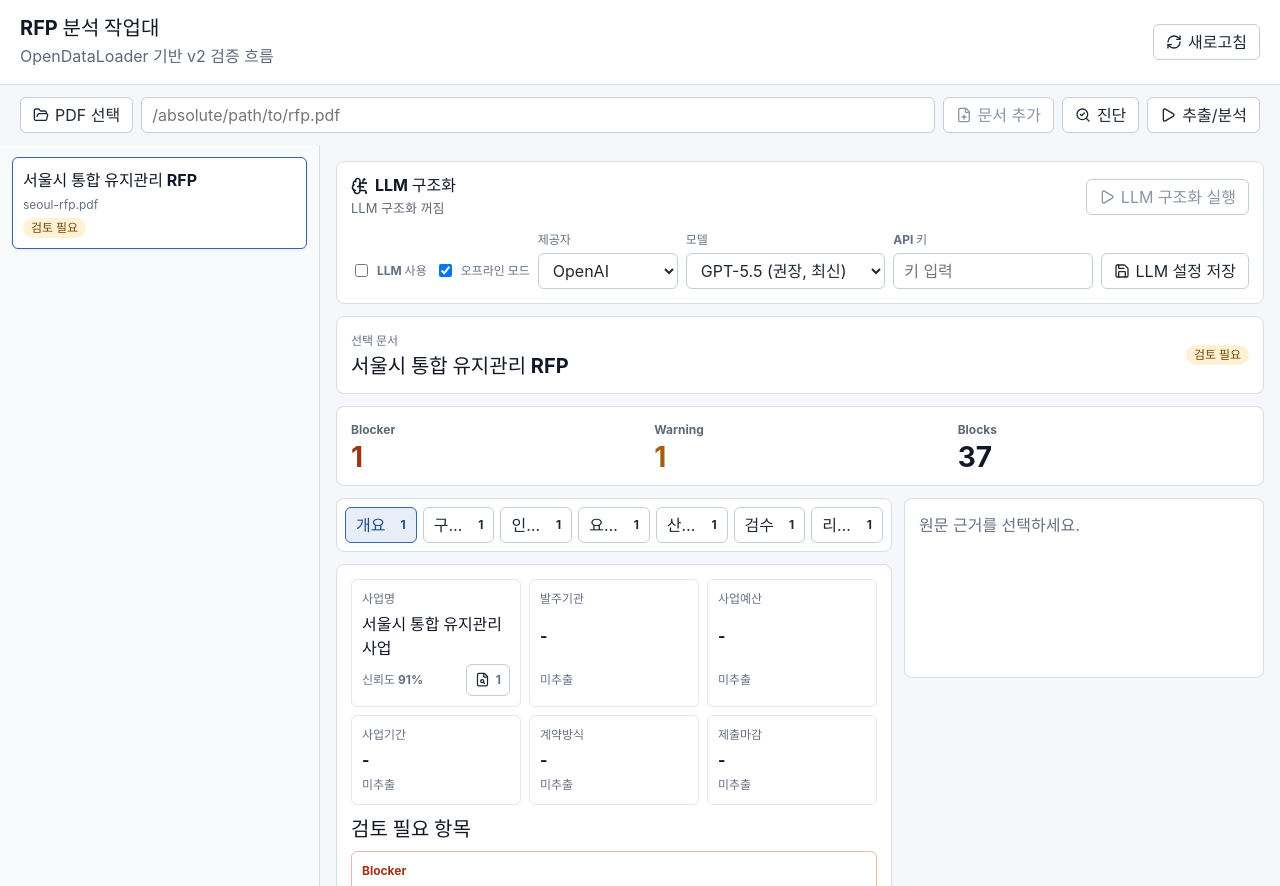
Test: App › navigates review tabs and shows domain rows
Click the button "구매 항목 1" at (459, 525), box [423,507,494,543]
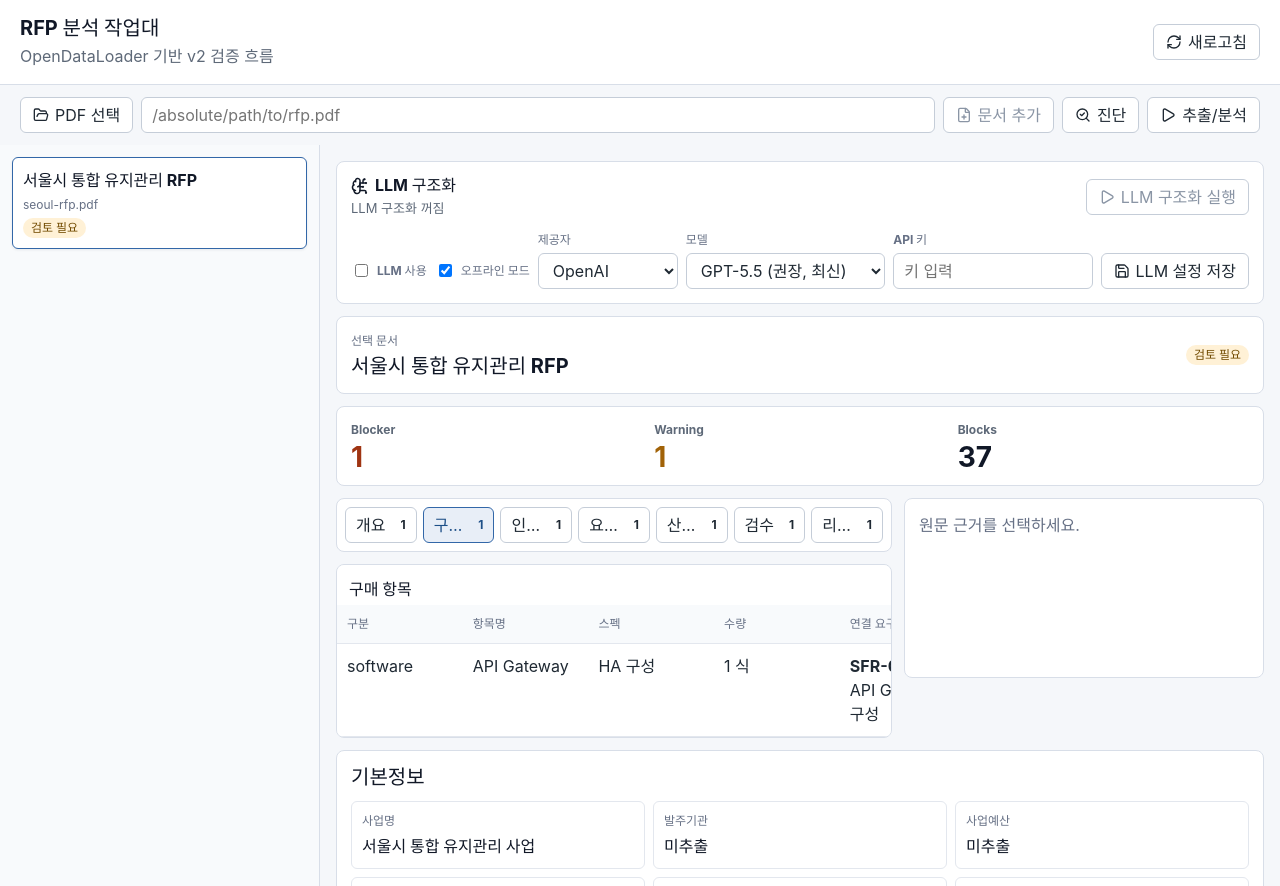
Check: the text "API Gateway" is shown, box [463,643,588,736]
Click the button "인력/MM 1" at (536, 525), box [500,507,572,543]
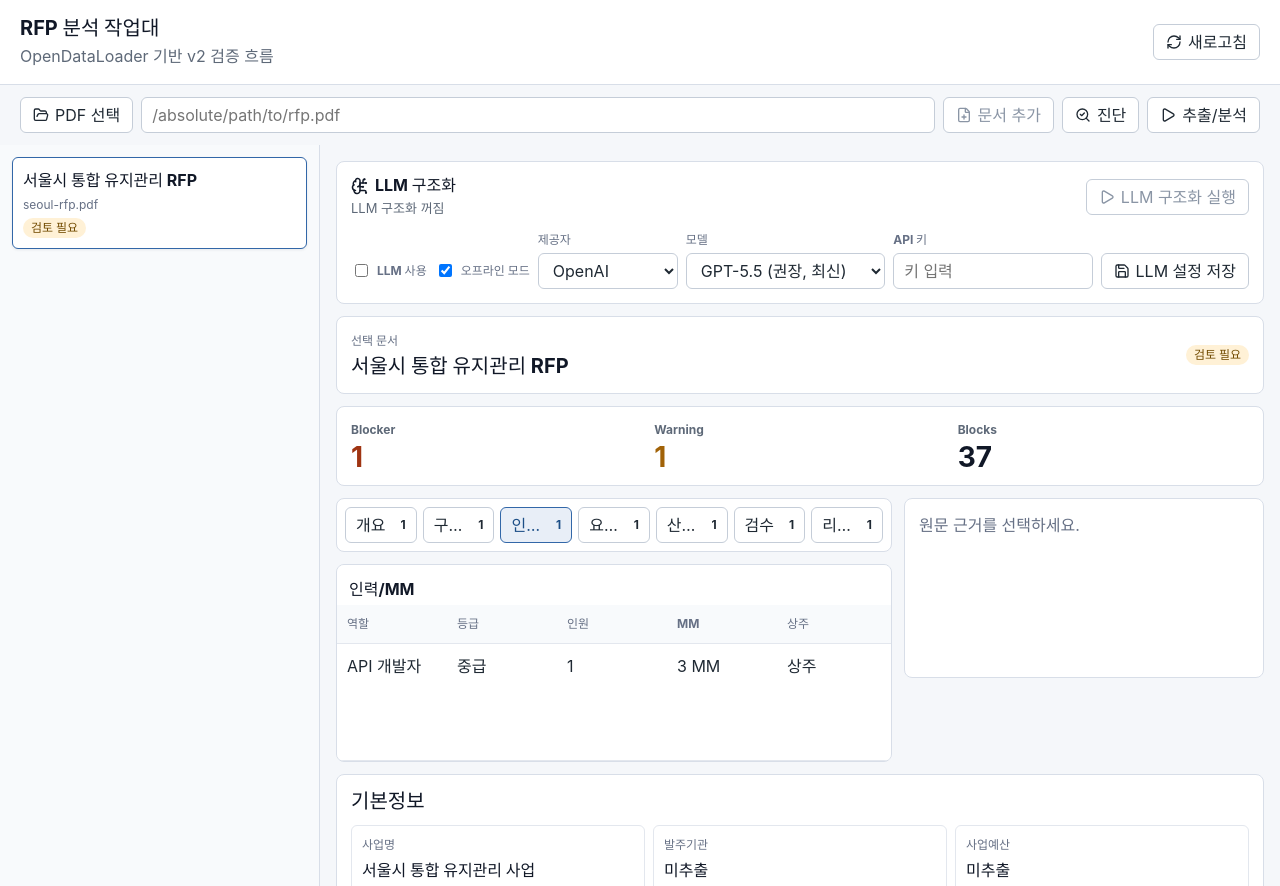
Check: the text "API 개발자" is shown, box [337,643,447,760]
Check: the text "3 MM" is shown, box [667,643,777,760]
Click the button "요구사항 1" at (614, 525), box [578,507,650,543]
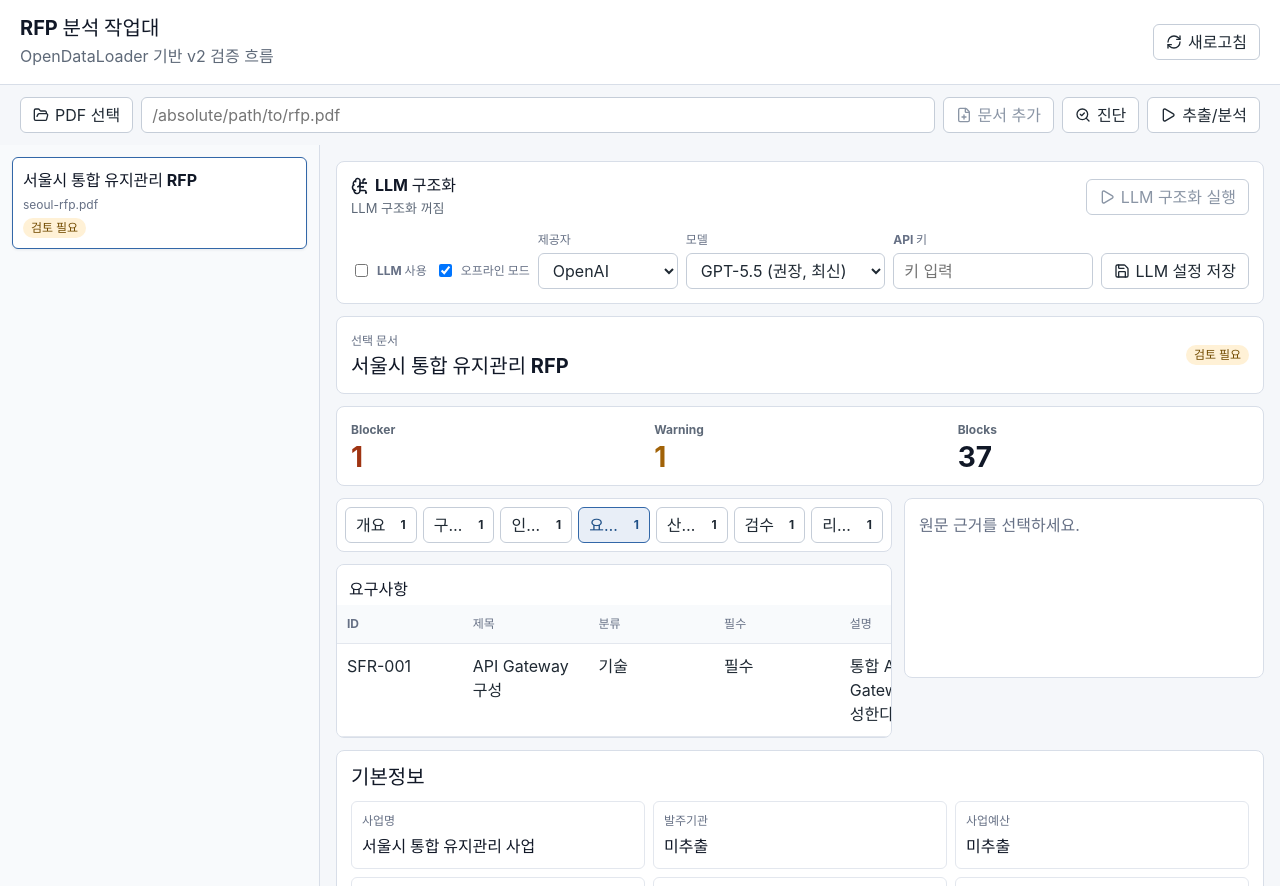
Check: the text "SFR-001" is shown, box [337,643,463,736]
Click the button "산출물 1" at (692, 525), box [656,507,728,543]
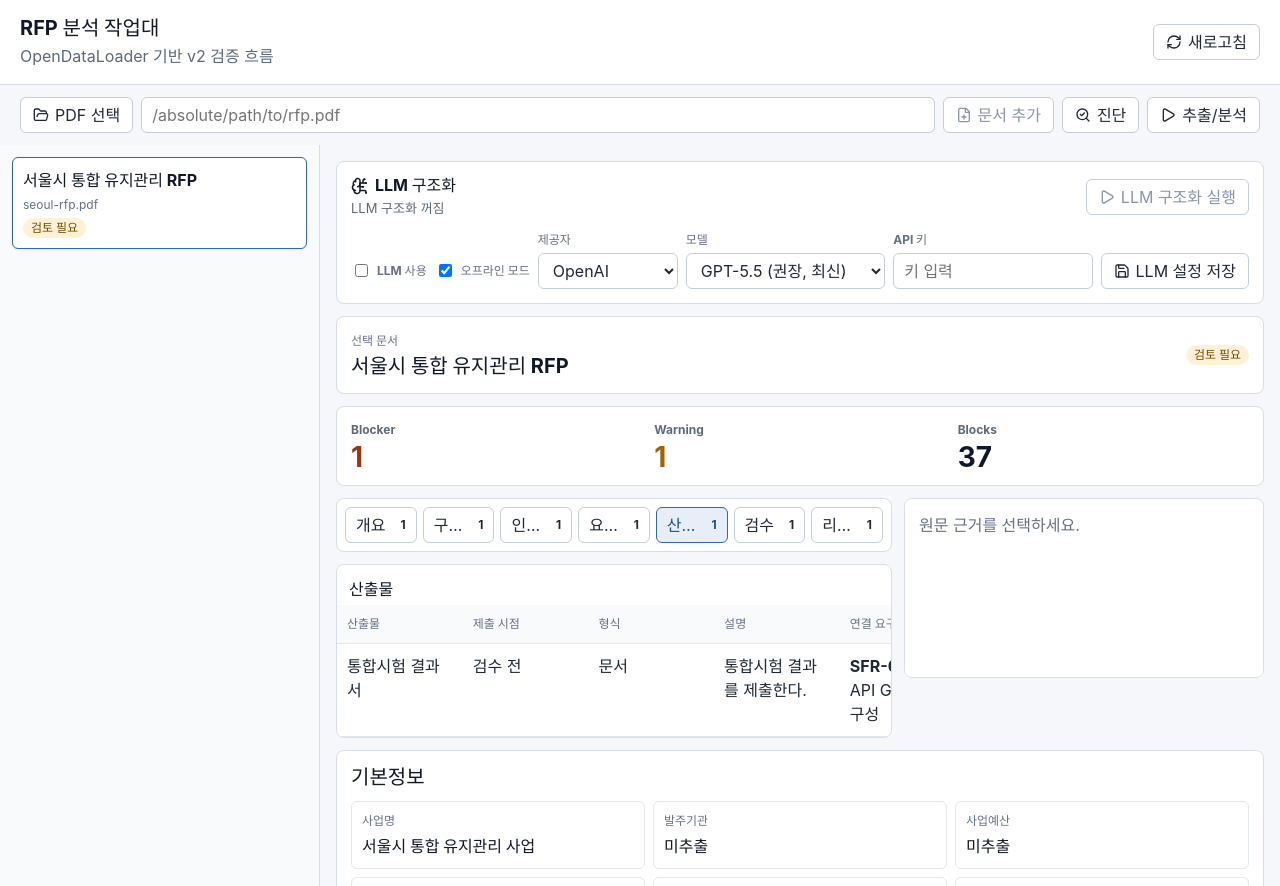
Check: the text "통합시험 결과서" is shown, box [337,643,463,736]
Click the button "검수 1" at (769, 525), box [734,507,805,543]
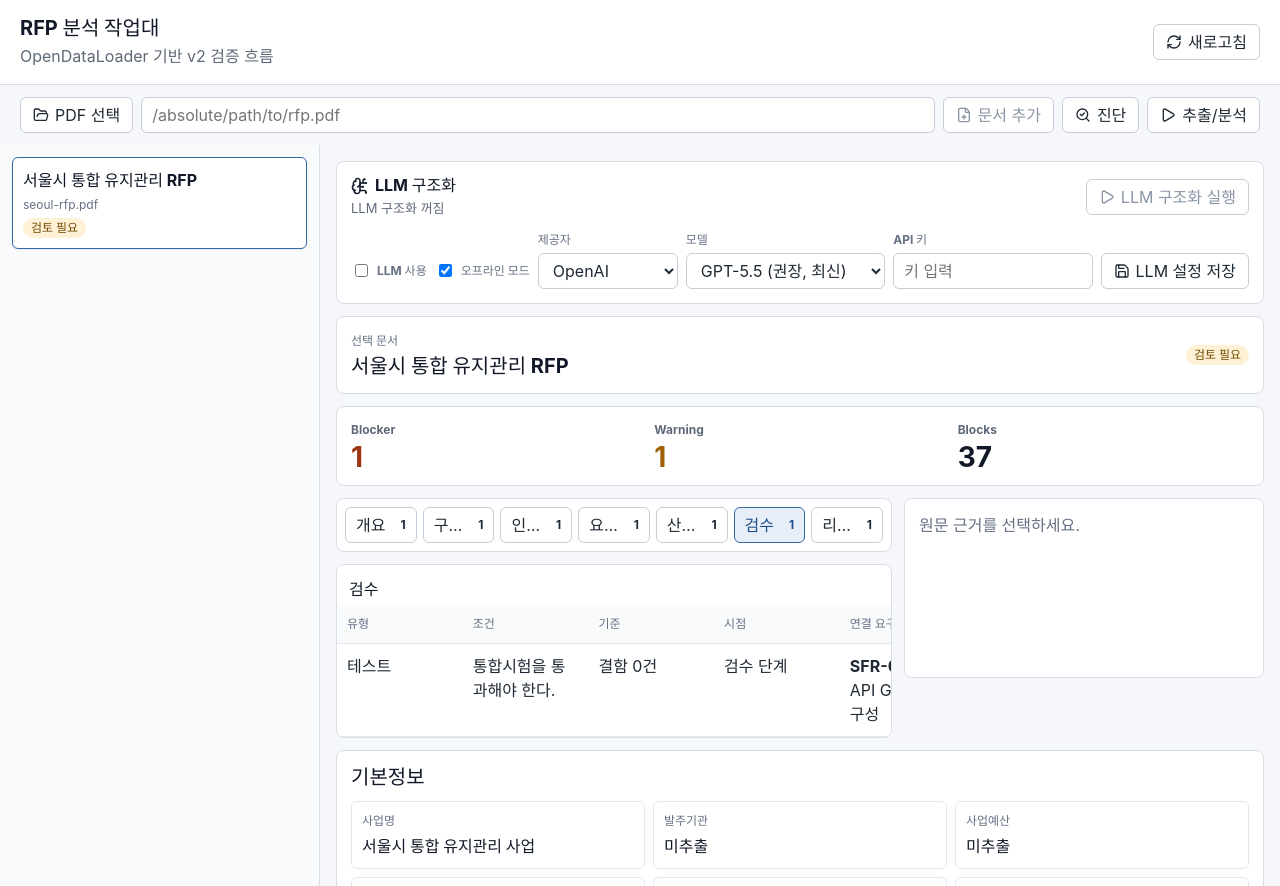
Check: the text "결함 0건" is shown, box [588,643,714,736]
Click the button "리스크 1" at (847, 525), box [811,507,883,543]
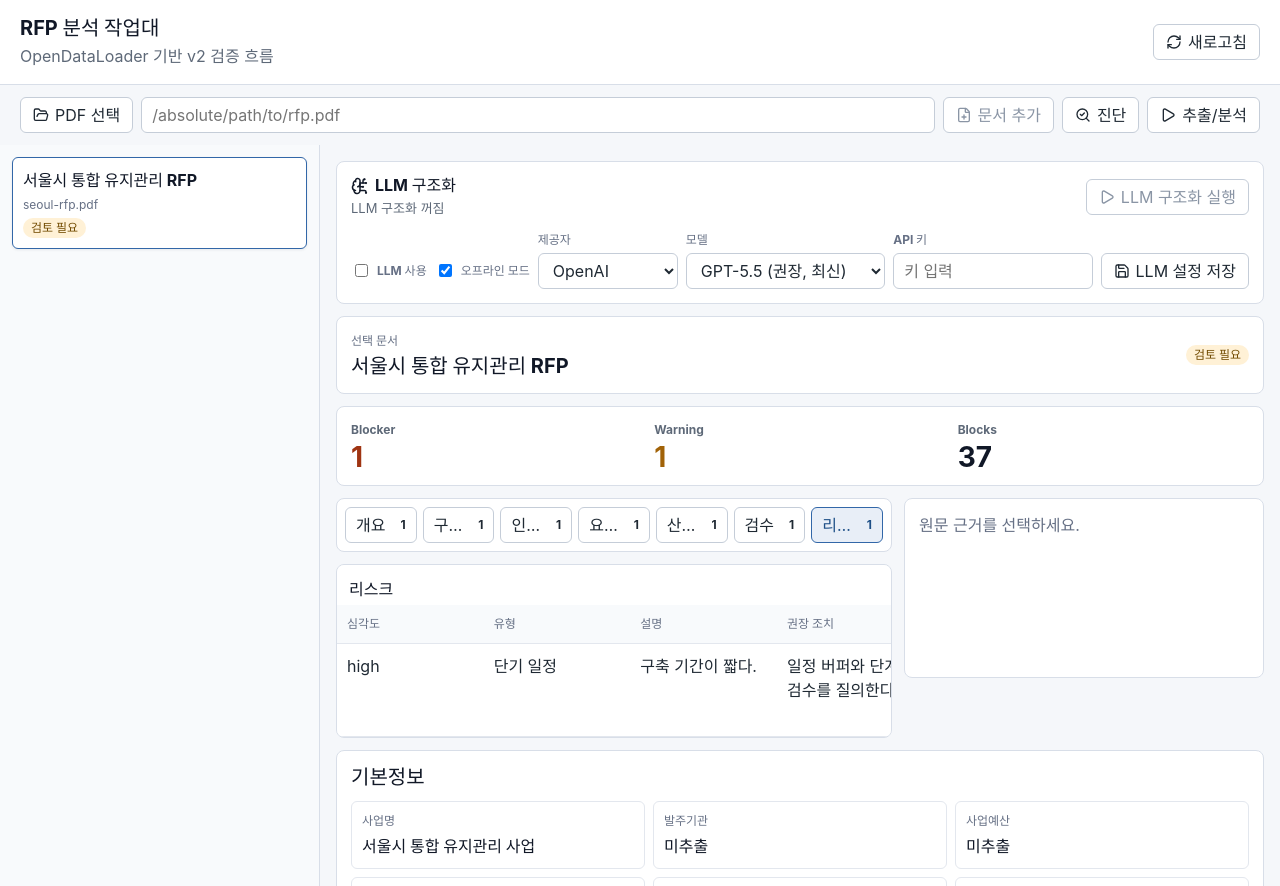
Check: the text "단기 일정" is shown, box [484,643,630,736]
Check: the text "일정 버퍼와 단계 검수를 질의한다." is shown, box [777,643,892,736]
